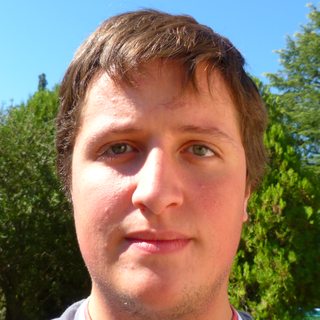eye: (169, 130, 225, 166), (94, 138, 146, 165)
